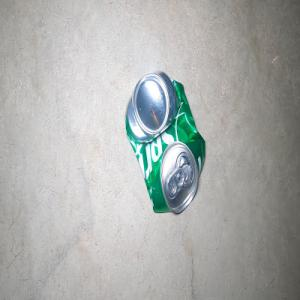SodaCan: (124, 70, 205, 213)
